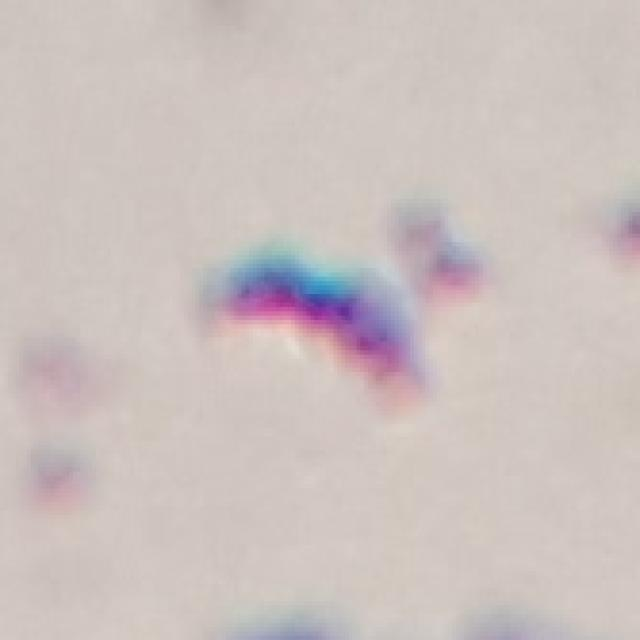non-sperm: (195, 243, 438, 404)
